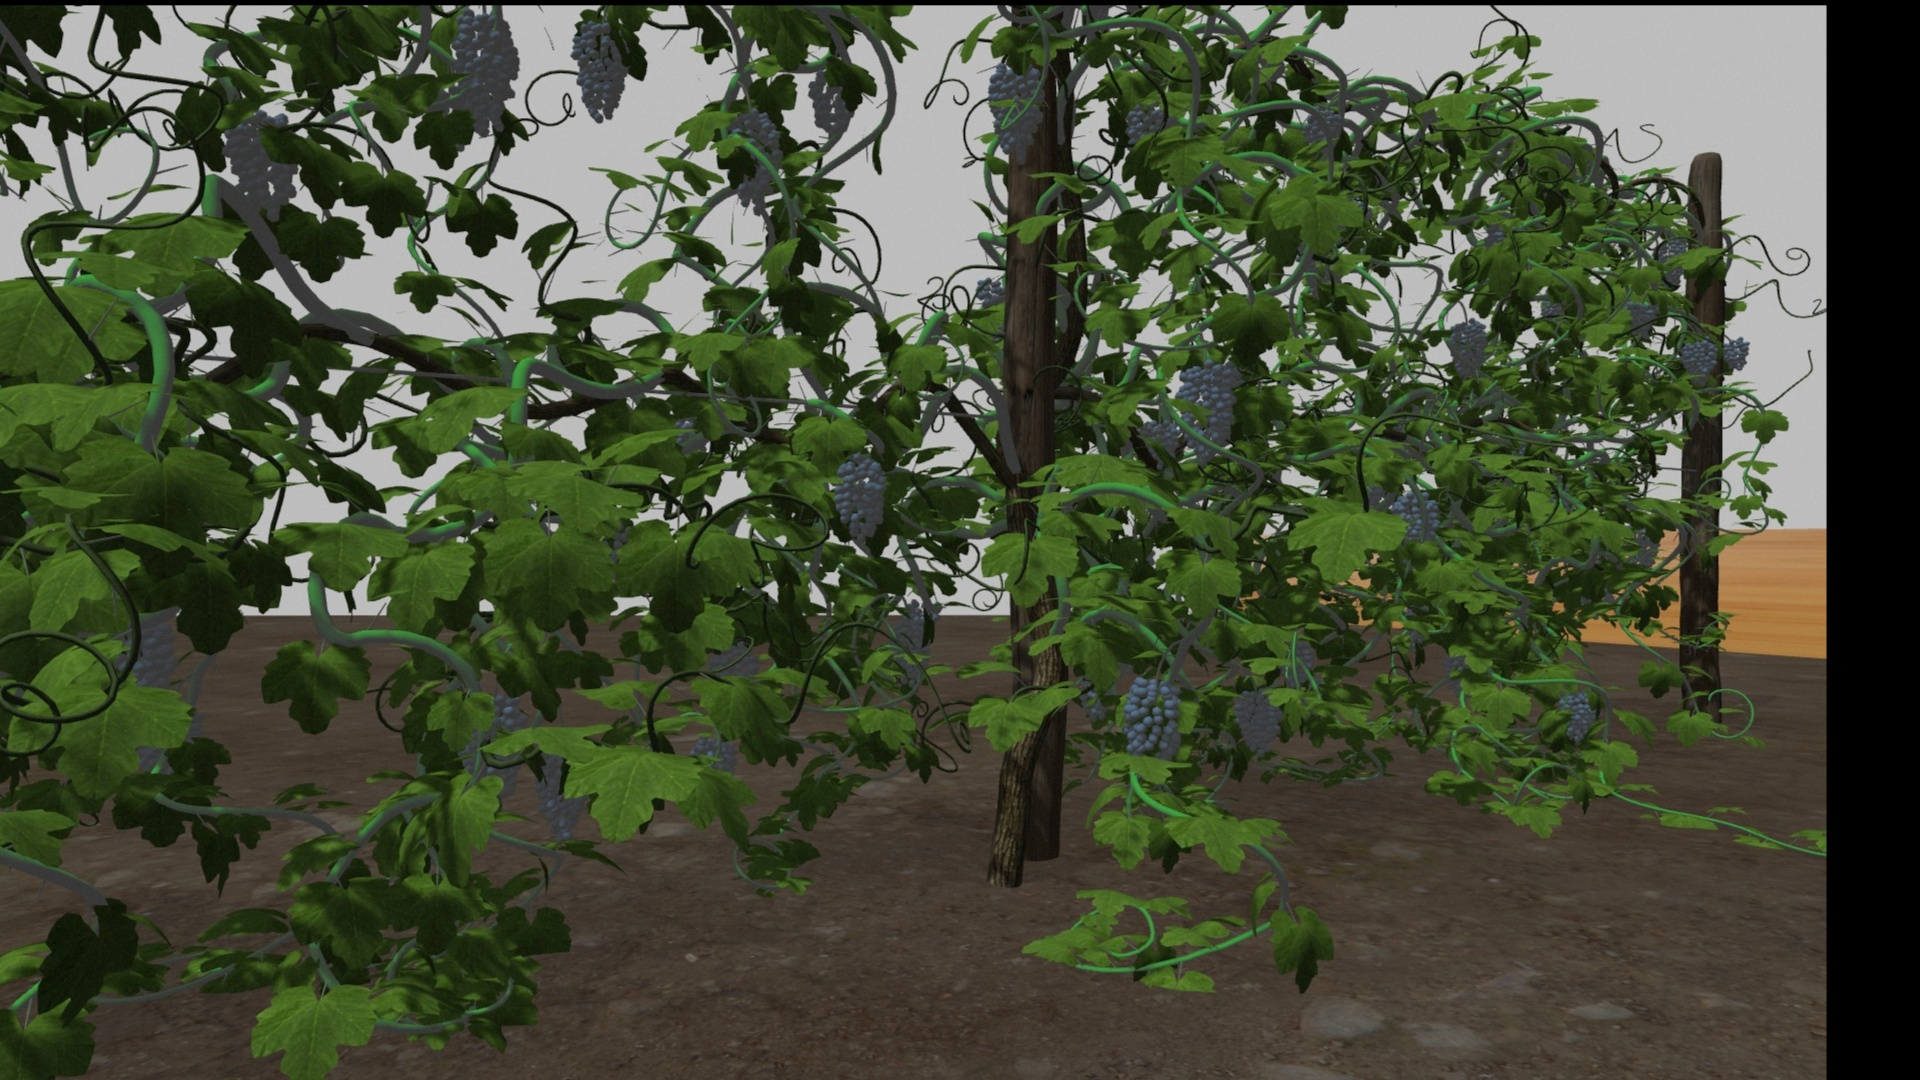grape: (451, 11, 521, 138), (222, 108, 299, 223), (1174, 360, 1240, 467), (723, 107, 783, 216), (984, 62, 1044, 166), (571, 20, 626, 124), (535, 738, 588, 840), (829, 454, 890, 541), (1122, 675, 1182, 764), (807, 65, 857, 136), (1232, 686, 1280, 757), (895, 599, 934, 688), (1390, 487, 1439, 545), (1448, 318, 1487, 378), (1553, 690, 1597, 744), (1681, 331, 1718, 382), (1124, 102, 1167, 142), (1141, 419, 1178, 465), (1658, 233, 1688, 284), (1302, 108, 1338, 148), (1625, 298, 1656, 336), (1724, 338, 1749, 373)
